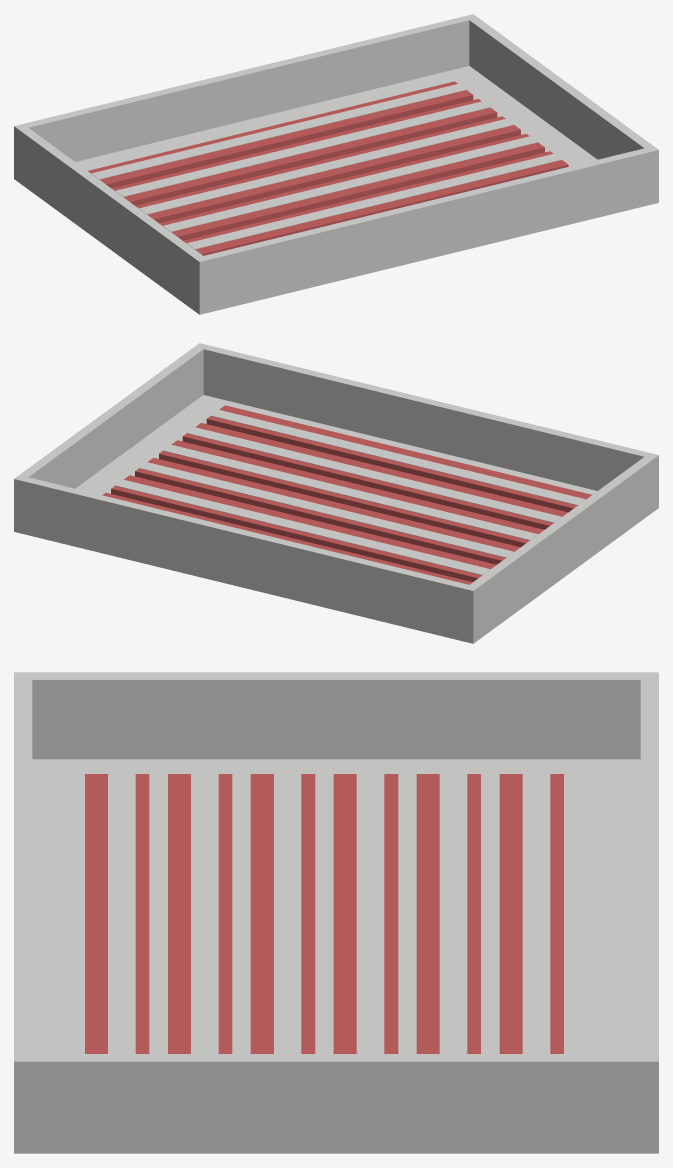
File: Bacon.fbx
3 renders of one model, top to bottom at view 1: azimuth 30°, elevation 25°; view 2: azimuth 150°, elevation 25°; view 3: azimuth 270°, elevation 25°, orthographic. The views are drawn at different scales.
Visible parts, largest first — view 1: Bacon; view 2: Bacon; view 3: Bacon.
Part boxes in pixels (bbox=[...]): Bacon: bbox=[14, 14, 658, 314]; Bacon: bbox=[14, 343, 658, 643]; Bacon: bbox=[14, 672, 658, 1153].
Bounding box in the file's own units: 0.2 × 0.022 × 0.14.
